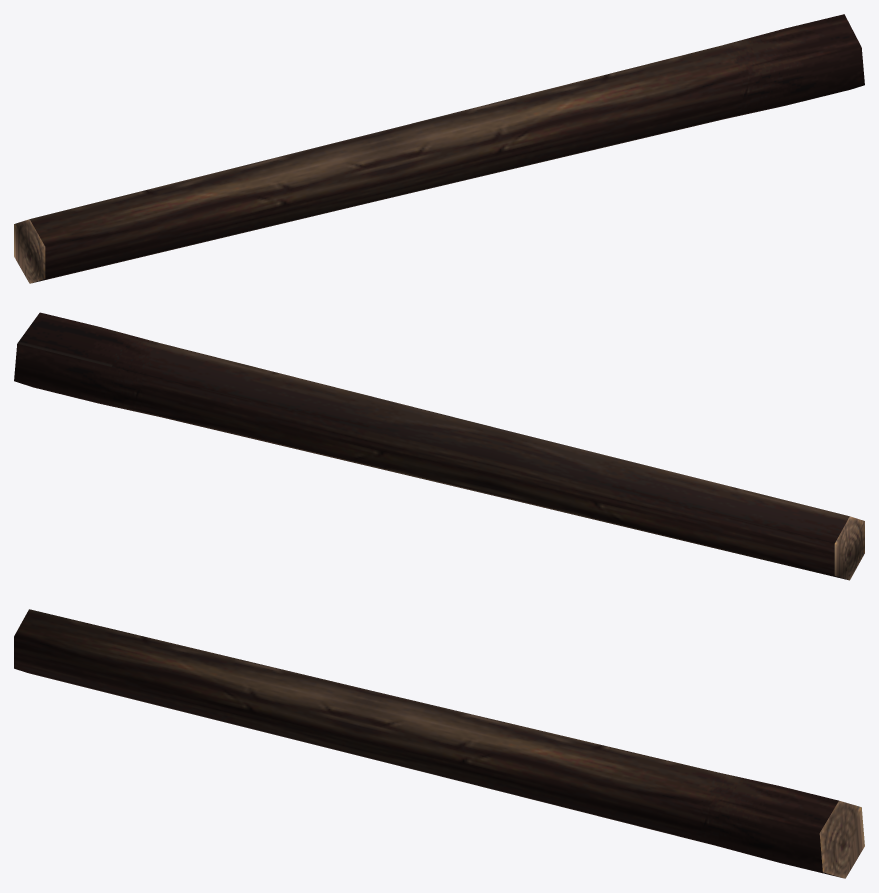
Rendered from 6002_Item_muzhuzi02.FBX.
The picture shows the model from 3 angles, top to bottom: view 1: azimuth 30°, elevation 25°; view 2: azimuth 150°, elevation 25°; view 3: azimuth 330°, elevation 25°; orthographic projection.
Visible parts, largest first — view 1: 6002_Item_muzhuzi02; view 2: 6002_Item_muzhuzi02; view 3: 6002_Item_muzhuzi02.
Boxes of the visible parts, box(x1,y1,x2,y2) form: 6002_Item_muzhuzi02: box(14, 14, 864, 283); 6002_Item_muzhuzi02: box(14, 312, 864, 580); 6002_Item_muzhuzi02: box(14, 609, 864, 878).
Size of the model in its own units: 325 by 29.18 by 25.27.
